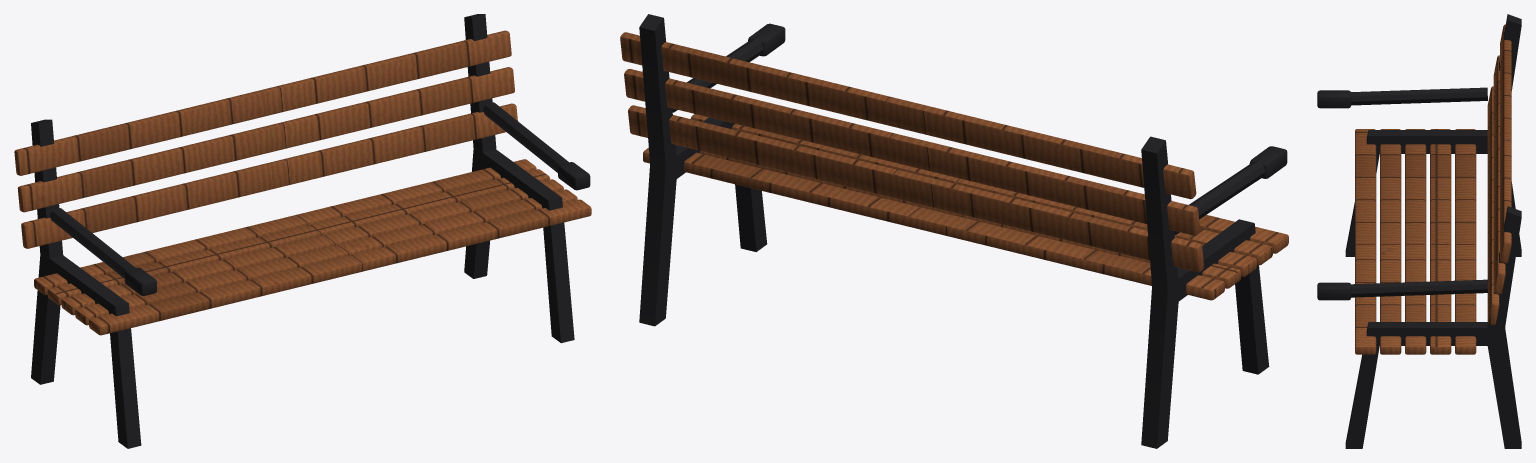
Rendered from bench_park.glb.
3 renders of one model, left to right at view 1: azimuth 30°, elevation 25°; view 2: azimuth 150°, elevation 25°; view 3: azimuth 270°, elevation 25°, orthographic. The views are drawn at different scales.
Parts seen in each view (by area): view 1: body; view 2: body; view 3: body.
Part boxes in pixels (x1,y1,x2,y2): body: (14,14,591,448); body: (620,14,1288,448); body: (1317,14,1521,448).
Size of the model in its own units: 1.82 by 0.92 by 0.72.
2 materials, 1 textured.
